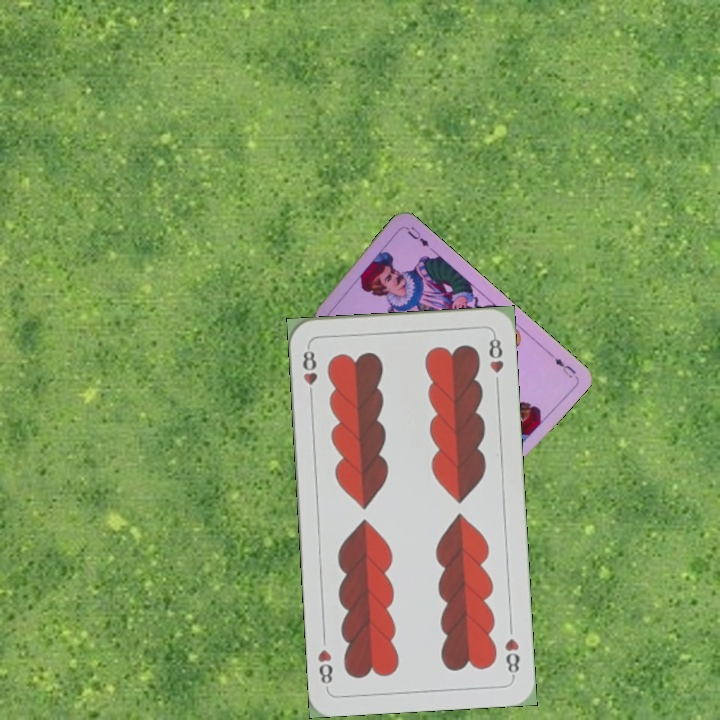EU: (544, 348, 579, 381)
H8: (298, 342, 320, 401), (500, 634, 522, 680)
